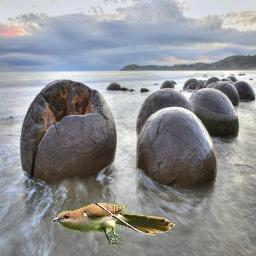Cuckoo: (51, 203, 176, 247)
